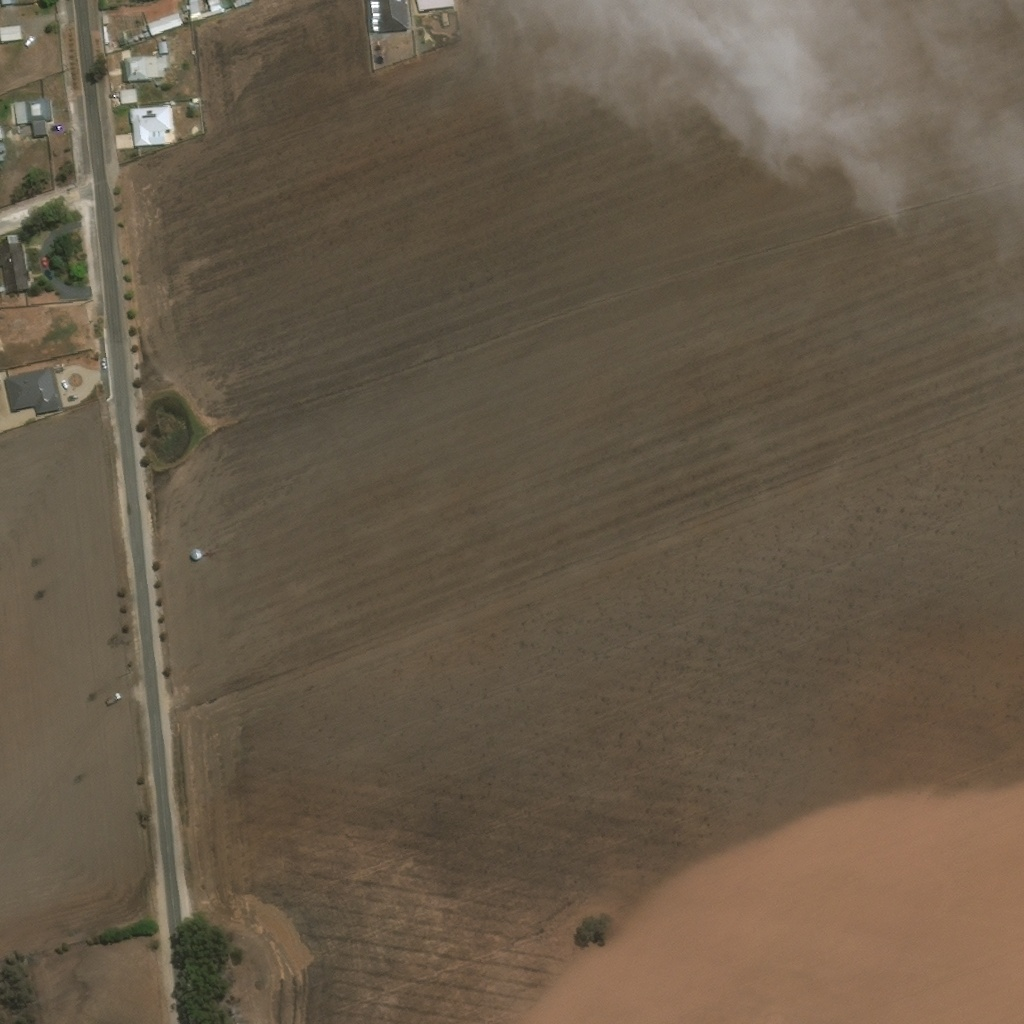0 no-damage: (3, 368, 58, 417), (129, 106, 171, 149), (0, 236, 30, 296), (363, 0, 407, 36), (120, 56, 167, 85), (14, 99, 49, 127), (146, 13, 184, 37), (181, 0, 201, 24), (0, 26, 20, 45), (207, 0, 225, 16), (118, 90, 136, 105), (156, 44, 167, 55), (132, 35, 144, 43), (143, 33, 150, 40), (169, 102, 175, 109)
4 un-classified: (416, 0, 454, 14), (15, 0, 39, 7), (79, 745, 92, 757), (530, 604, 541, 615), (157, 247, 167, 257), (0, 128, 3, 142), (0, 142, 3, 154)
